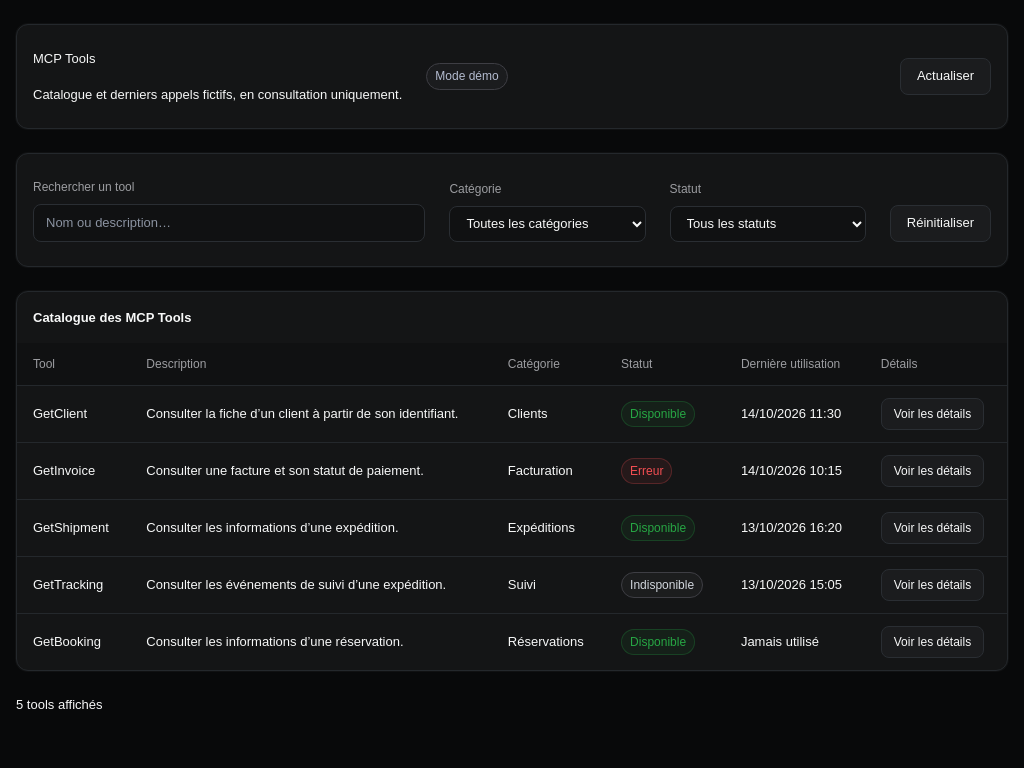
MCP tools consultation › shows failed and unavailable tool errors and the never-used empty state
Click the button "Voir les détails" in the row of "GetInvoice" at (932, 471), box top-left (881, 455), bottom-right (984, 487)
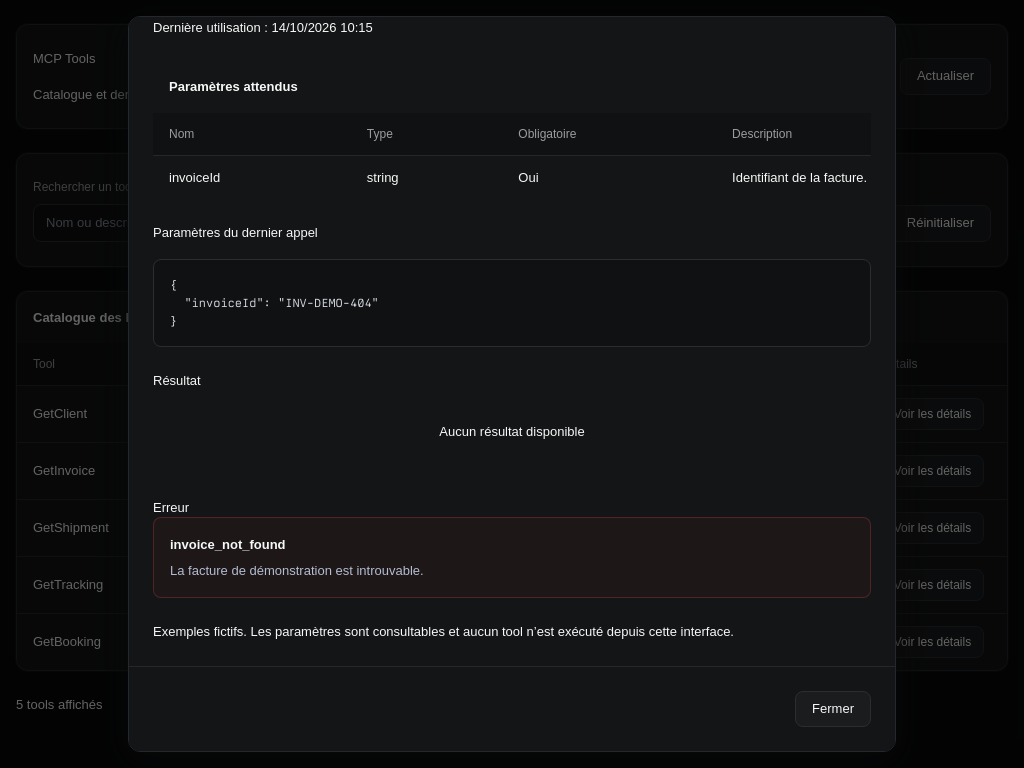
Expected: the message shows "invoice_not_found", top-left (170, 537), bottom-right (286, 552)
Expected: the text "Aucun résultat disponible" is shown, top-left (439, 422), bottom-right (585, 442)
Click the button "Fermer" at (833, 709), box top-left (795, 691), bottom-right (871, 727)
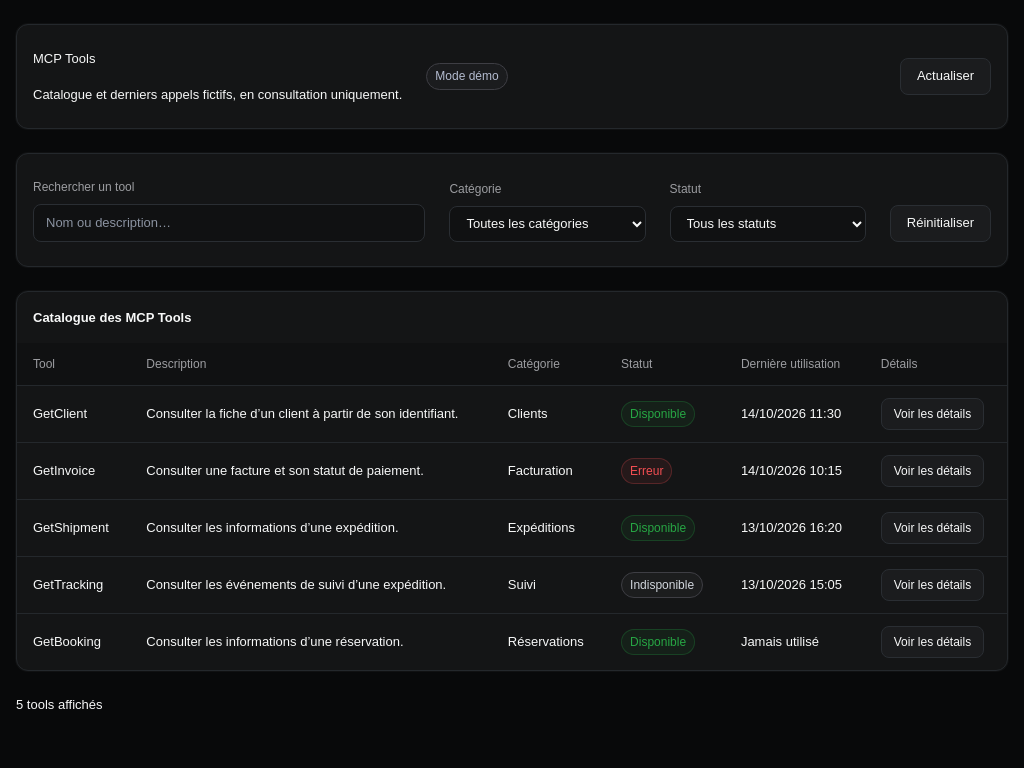
Click the button "Voir les détails" in the row of "GetTracking" at (932, 585), box top-left (881, 569), bottom-right (984, 601)
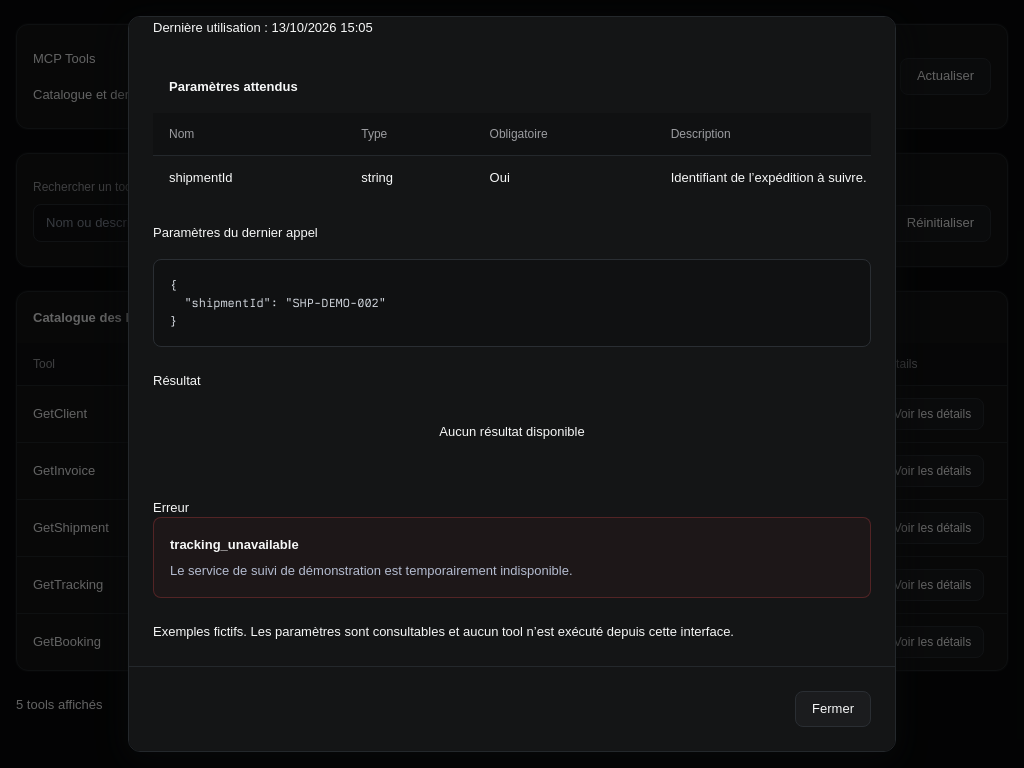
Expected: the message shows "tracking_unavailable", top-left (170, 537), bottom-right (299, 552)
Expected: the text "Aucun résultat disponible" is shown, top-left (439, 422), bottom-right (585, 442)
Click the button "Fermer" at (833, 709), box top-left (795, 691), bottom-right (871, 727)
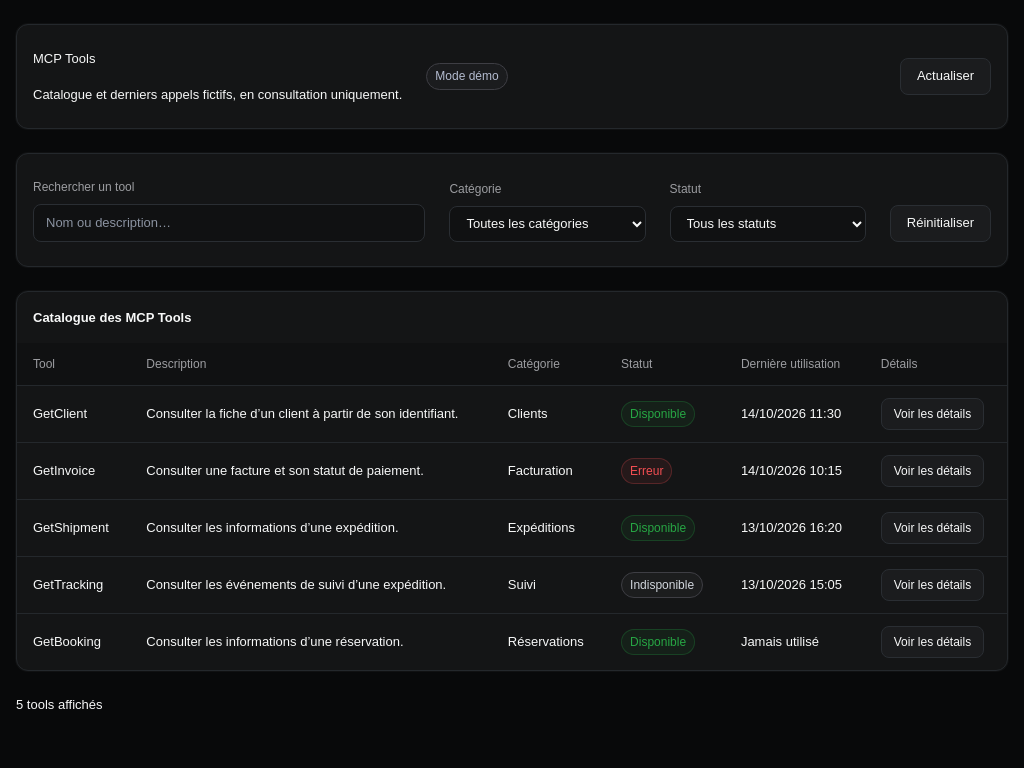
Click the button named "Voir GetBooking" at (932, 642), box top-left (881, 626), bottom-right (984, 658)
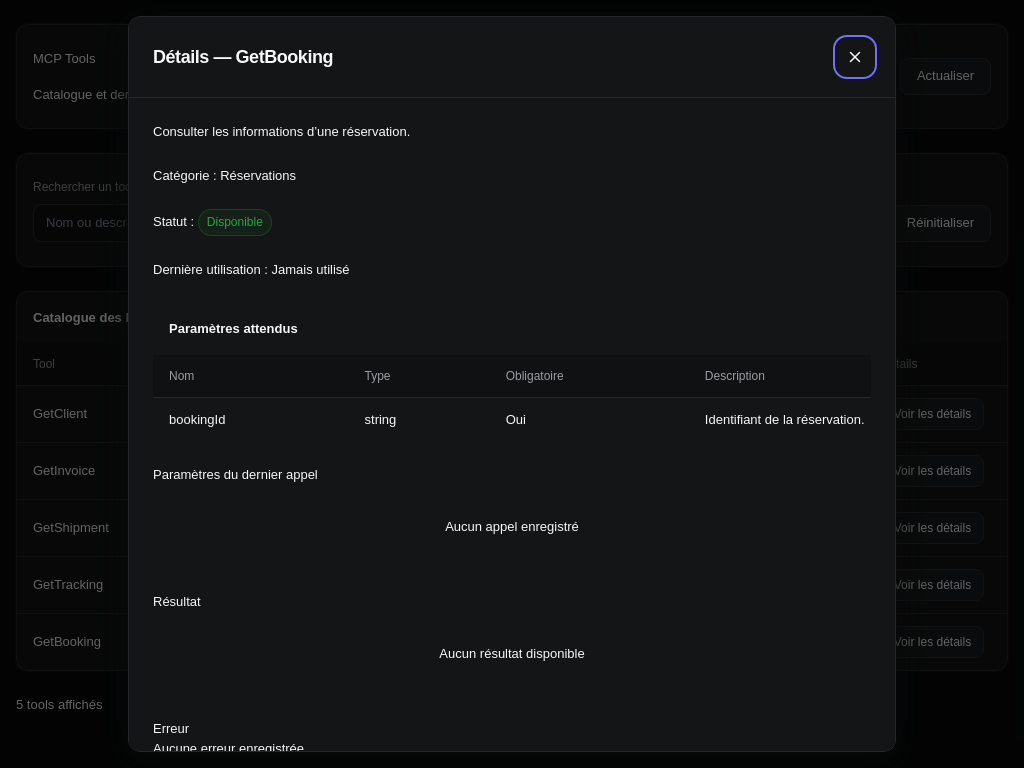
Expected: the text "Aucun appel enregistré" is shown, top-left (445, 517), bottom-right (579, 536)
Expected: the text "Dernière utilisation : Jamais utilisé" is shown, top-left (153, 262), bottom-right (350, 277)
